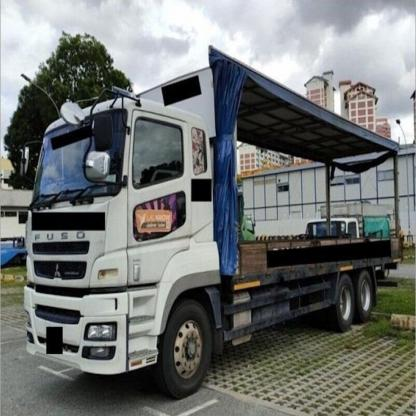truck: (24, 47, 405, 396)
